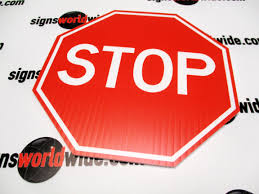SS: (32, 8, 239, 167)
